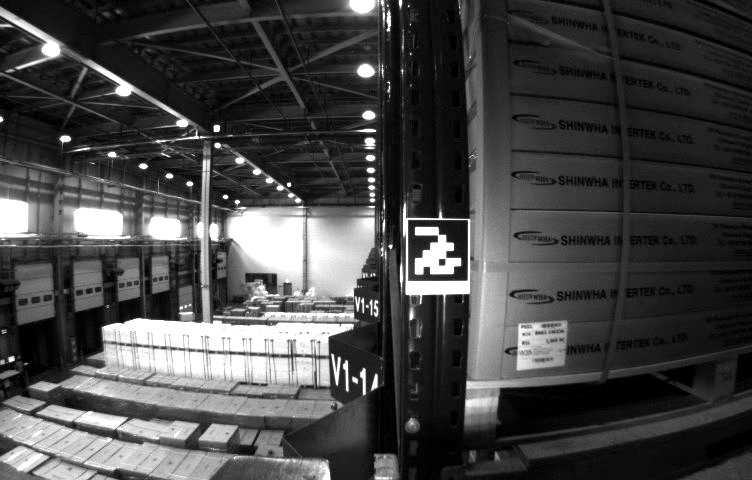True Barcode: (516, 321, 567, 368)
